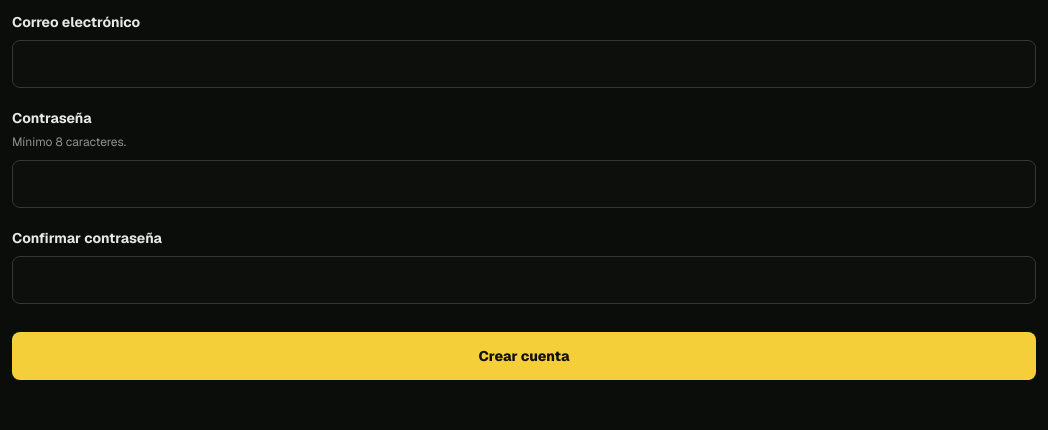
Scenario: RegisterForm › valida la confirmación de contraseña antes de enviar
Type "lucas@example.com" into the field labelled "Correo electrónico" at (524, 64), box [12,40,1036,88]
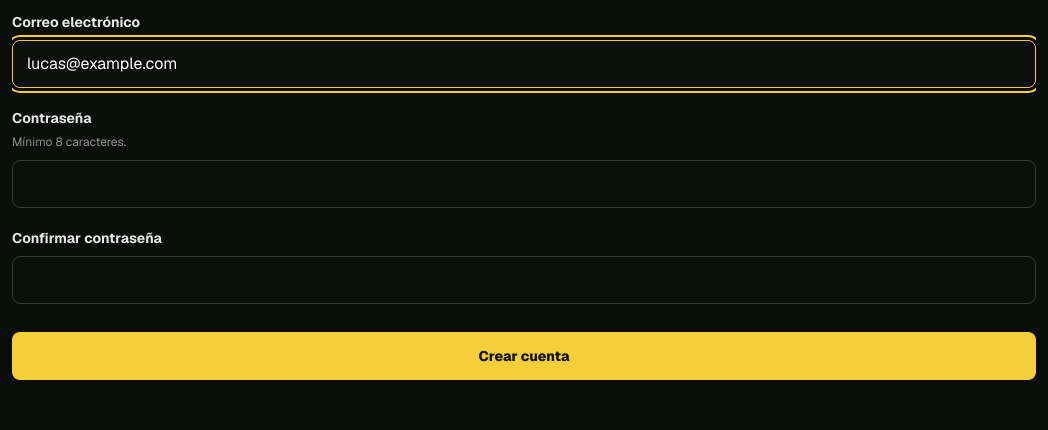
Type "password-segura" into the password field labelled "Contraseña" at (524, 184), box [12,160,1036,208]
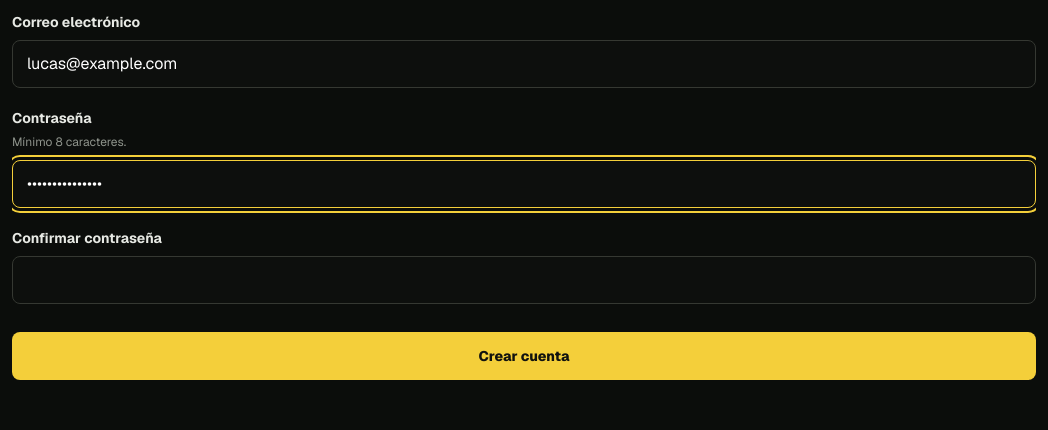
Type "password-distinta" into the password field labelled "Confirmar contraseña" at (524, 280), box [12,256,1036,304]
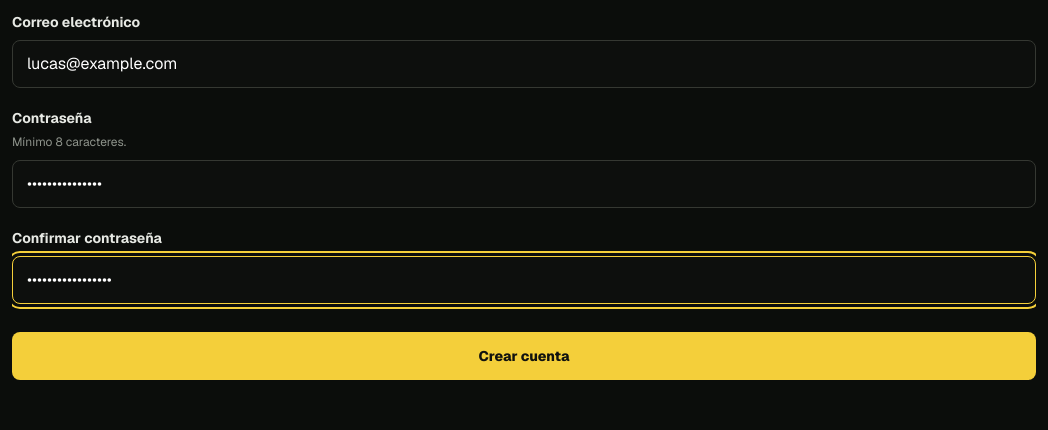
Click the button "Crear cuenta" at (524, 356), box [12,332,1036,380]
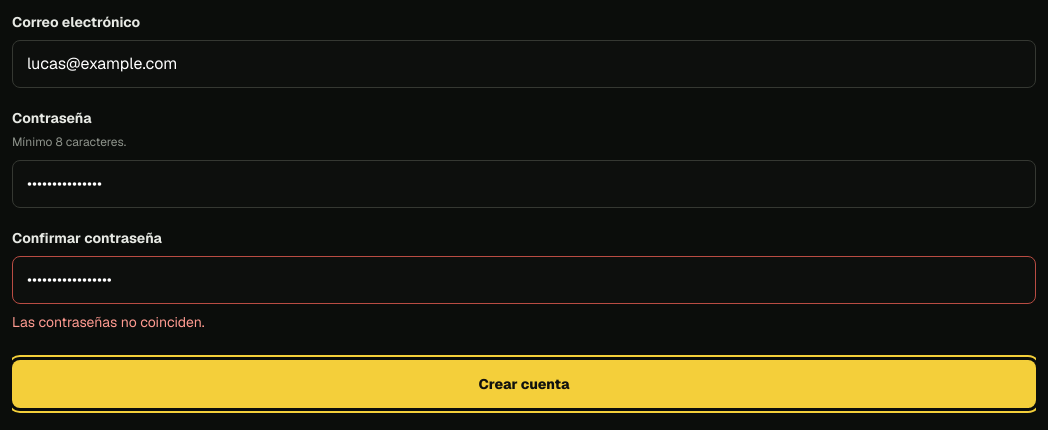
Expected: the text "Las contraseñas no coinciden." is shown, [12,313,205,331]
